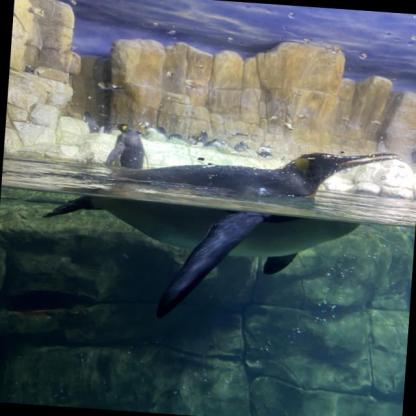penguin: (37, 128, 397, 334), (107, 121, 148, 170), (80, 110, 102, 132), (194, 129, 210, 148)
